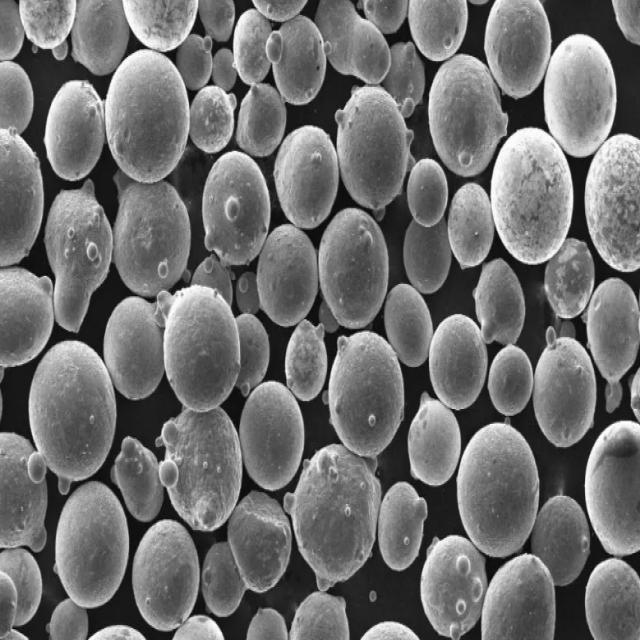cells: (283, 436, 386, 592), (28, 334, 120, 500), (104, 37, 194, 194), (452, 421, 542, 567), (491, 123, 577, 270), (109, 165, 195, 302), (50, 478, 135, 616), (334, 76, 416, 218), (323, 324, 407, 458), (158, 406, 248, 530), (44, 182, 116, 336), (162, 283, 242, 417), (541, 27, 619, 164), (426, 54, 511, 175), (316, 200, 391, 334), (126, 510, 200, 636), (203, 146, 272, 274), (417, 526, 490, 640), (531, 328, 598, 452), (238, 382, 310, 494), (274, 118, 342, 231), (253, 218, 320, 332), (584, 420, 640, 554), (479, 554, 559, 640), (42, 76, 107, 180), (107, 289, 165, 403), (229, 487, 291, 593), (485, 0, 552, 98), (0, 429, 52, 554), (314, 0, 393, 82), (426, 309, 489, 409), (269, 8, 331, 109), (2, 125, 45, 266), (384, 272, 439, 382), (405, 388, 465, 488), (534, 487, 591, 590), (0, 261, 54, 369), (473, 254, 529, 354), (444, 173, 496, 273), (113, 434, 167, 528), (486, 332, 539, 421), (379, 477, 426, 577), (282, 313, 331, 407), (70, 0, 131, 75), (585, 557, 640, 640), (236, 80, 290, 160), (403, 152, 452, 235), (201, 536, 250, 617), (402, 222, 454, 297), (122, 0, 200, 49), (410, 1, 470, 64), (191, 78, 239, 156), (1, 547, 46, 628), (15, 0, 78, 57), (232, 308, 272, 397), (230, 7, 271, 84), (387, 35, 426, 113), (287, 592, 352, 638), (0, 57, 37, 135), (173, 34, 214, 94), (199, 0, 240, 44), (212, 44, 245, 94)
